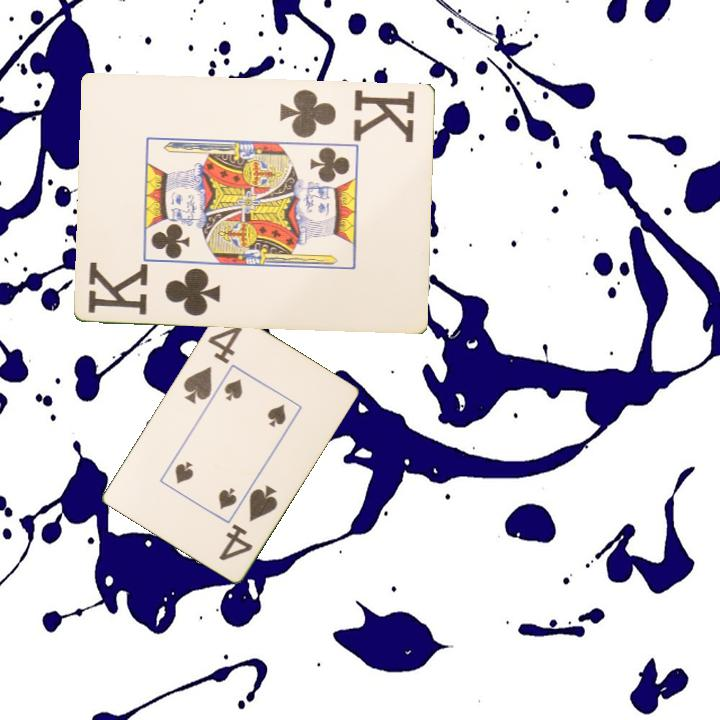4s: (179, 322, 245, 406), (215, 480, 280, 563)
Kc: (276, 85, 419, 144), (85, 260, 224, 319)
